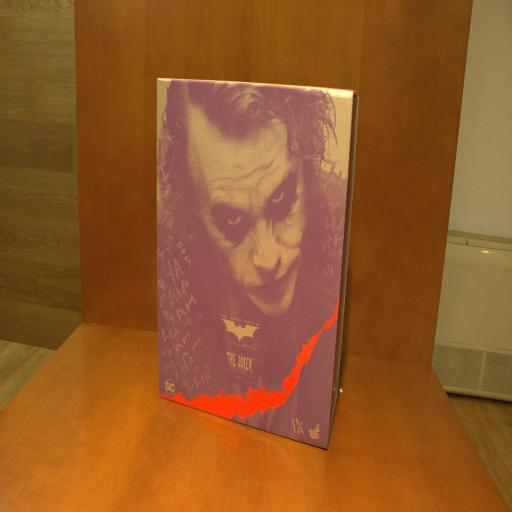Joker: (153, 72, 363, 457)
